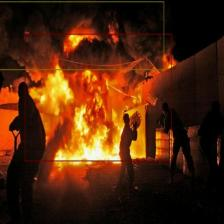fire: (25, 34, 172, 161)
smoke: (0, 1, 164, 70)
